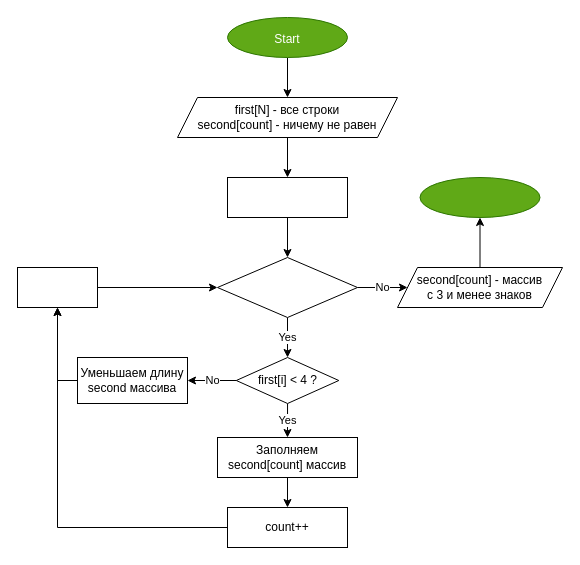
This 580x565 diagram has some shape labels left out. The shapes that lost their labels are listed below. From the top down, each one's centre as x and y in pixels, then its label:
At (x=287, y=197): "i = 0 count = 0".
At (x=479, y=197): "Fiinish".
At (x=57, y=287): "i++".
At (x=287, y=287): "i < first.Length ?".
